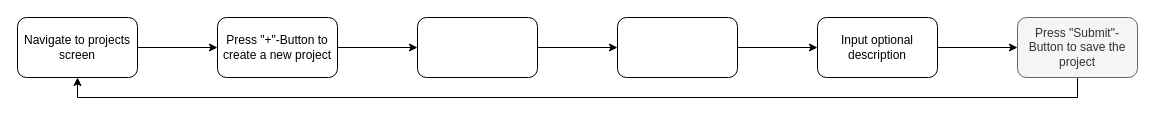
Some shapes in this 1155 by 123 pixel diagram are drawn without their labels. The centre of each missing label's shape, as x and y in pixels:
"Input project title" belongs at point (477, 47).
"Select start date and end date" belongs at point (677, 47).
